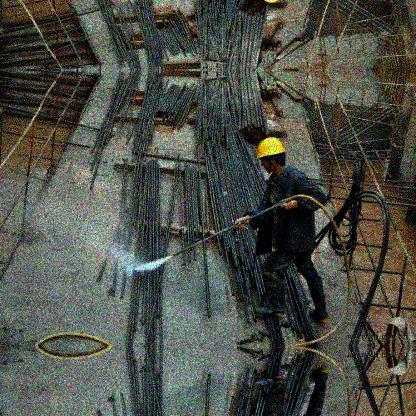helmet: (256, 137, 286, 174)
